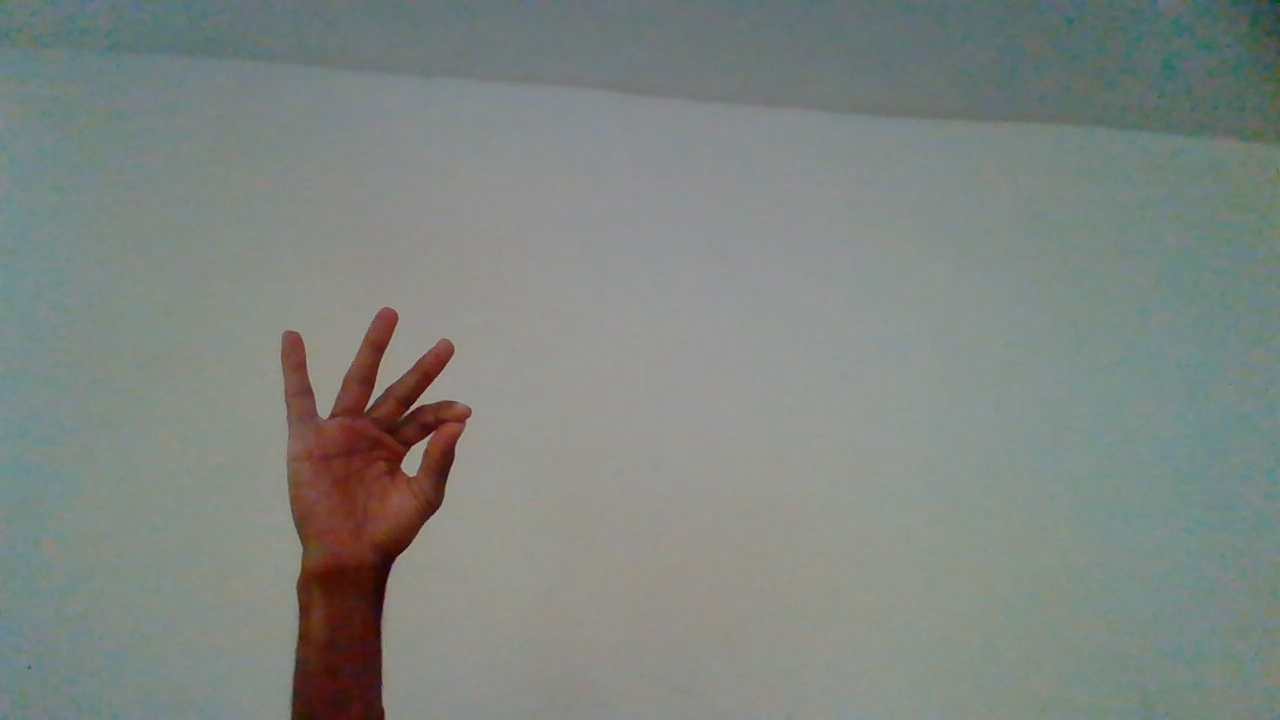le: (278, 305, 473, 696)
